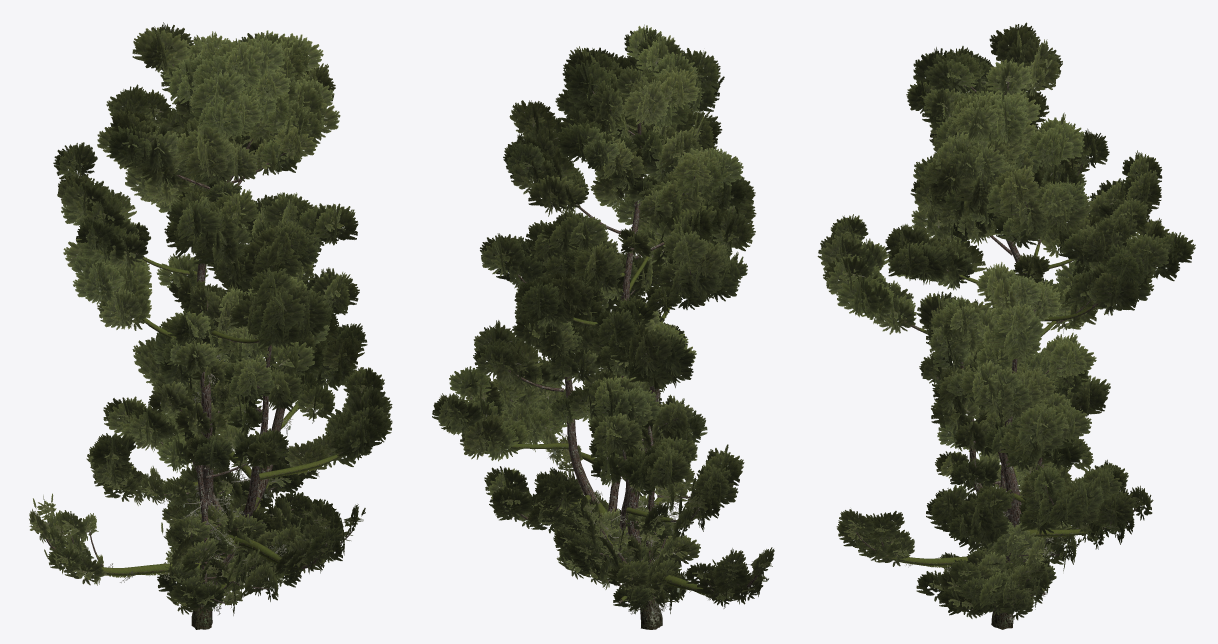
Rendered from shorepine.glb.
The picture shows the model from 3 angles, left to right: view 1: azimuth 30°, elevation 25°; view 2: azimuth 150°, elevation 25°; view 3: azimuth 270°, elevation 25°; orthographic projection. The views are drawn at different scales.
Visible parts, largest first — view 1: shorepine_forest_lod0, shorepine_mossy_lod0, shorepine_dune_lod0, shorepine_wet_lod0; view 2: shorepine_forest_lod0, shorepine_mossy_lod0, shorepine_dune_lod0, shorepine_wet_lod0; view 3: shorepine_forest_lod0, shorepine_mossy_lod0, shorepine_dune_lod0, shorepine_wet_lod0.
Boxes of the visible parts, box(x1,y1,x2,y2) form: shorepine_forest_lod0: box(53, 22, 358, 629); shorepine_mossy_lod0: box(29, 192, 392, 629); shorepine_dune_lod0: box(157, 446, 338, 615); shorepine_wet_lod0: box(140, 275, 288, 583); shorepine_forest_lod0: box(480, 24, 756, 627); shorepine_mossy_lod0: box(432, 209, 774, 629); shorepine_dune_lod0: box(540, 454, 700, 618); shorepine_wet_lod0: box(588, 293, 707, 568); shorepine_forest_lod0: box(817, 22, 1195, 565); shorepine_mossy_lod0: box(836, 262, 1153, 629); shorepine_dune_lod0: box(916, 511, 1081, 620); shorepine_wet_lod0: box(935, 301, 1037, 549).
Size of what is drawn, in the model's own units: 10.15 by 16.97 by 10.11.
4 materials, 4 textured.
